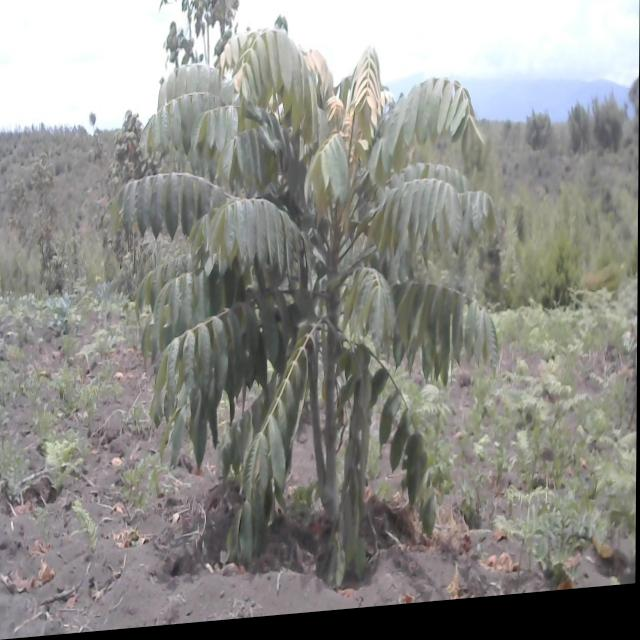Polyscias fulva: (126, 25, 513, 561)
